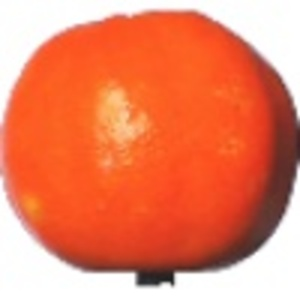tangerina: (1, 8, 300, 286)
